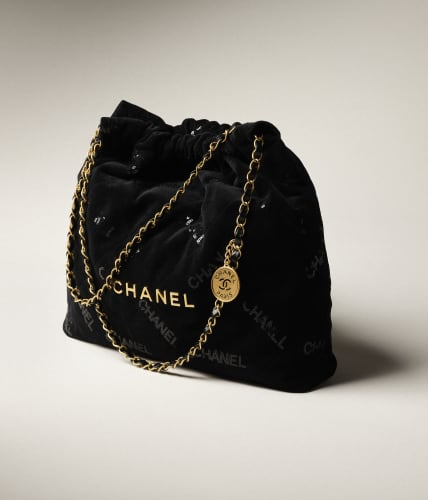channel: (71, 104, 322, 371), (99, 267, 202, 319), (215, 265, 246, 303)
